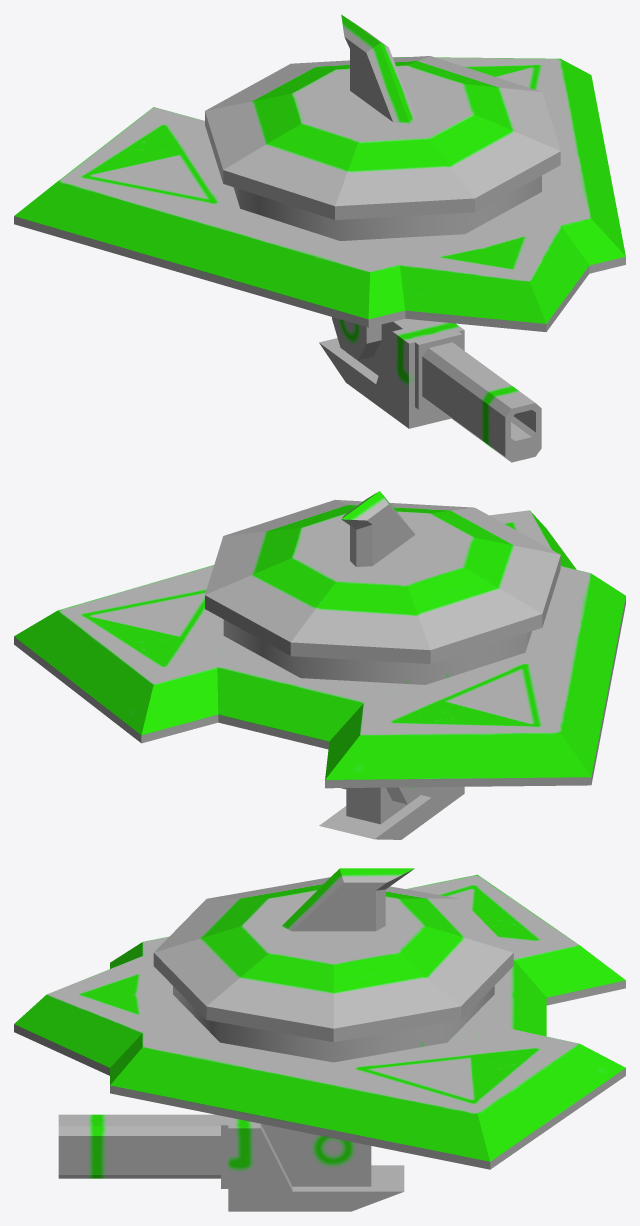
Rendered from UFO_Speed02.fbx.
3 views of the same model, one above another, from view 1: azimuth 30°, elevation 25°; view 2: azimuth 150°, elevation 25°; view 3: azimuth 270°, elevation 25° (orthographic). The views are drawn at different scales.
Parts seen in each view (by area): view 1: P_UFO_Speed; view 2: P_UFO_Speed; view 3: P_UFO_Speed.
Part boxes in pixels (bbox=[...]): P_UFO_Speed: bbox=[14, 14, 625, 462]; P_UFO_Speed: bbox=[14, 491, 625, 839]; P_UFO_Speed: bbox=[14, 868, 625, 1211].
Bounding box in the file's own units: 3.14 × 1.75 × 2.95.
Materials: 1 (1 with a texture image).
